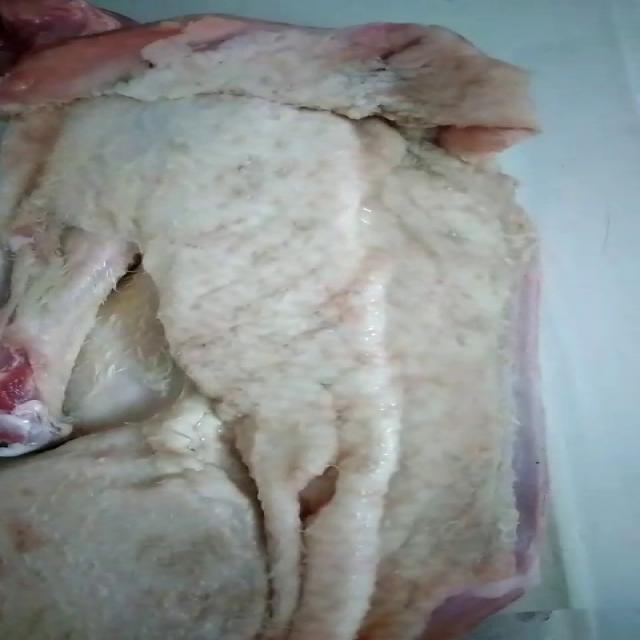chicken: (0, 0, 542, 640)
